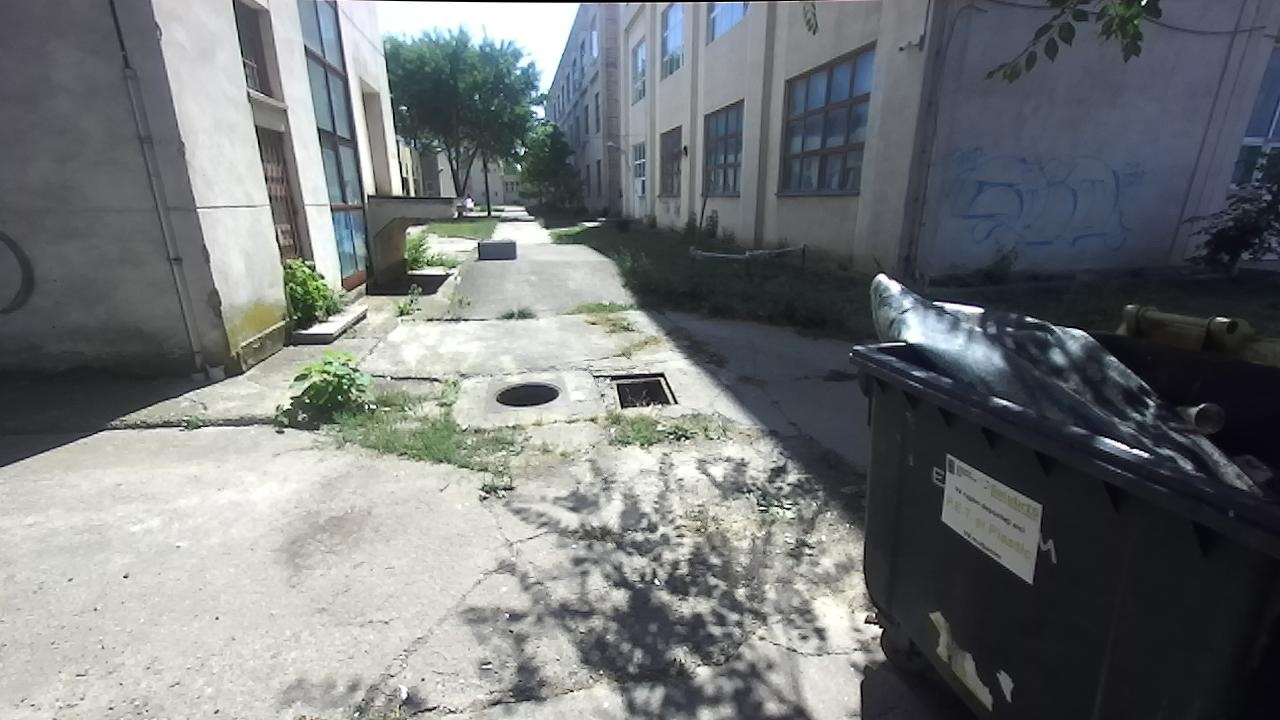drain: (595, 374, 678, 405), (494, 377, 562, 410)
